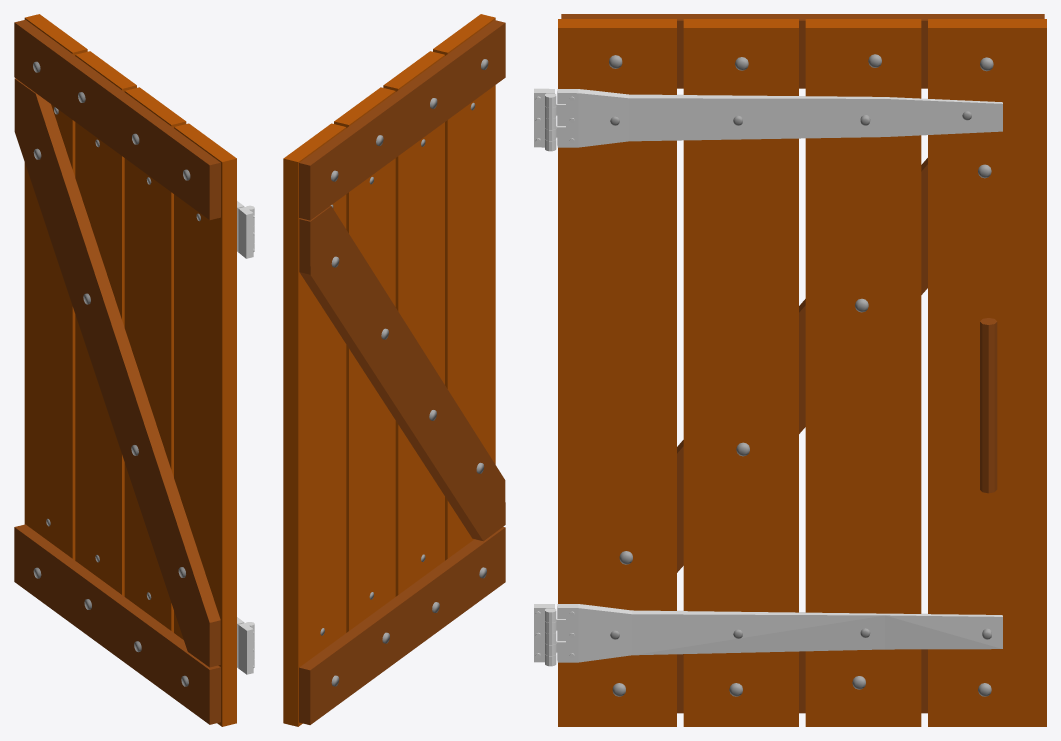
Rendered from Door.fbx.
The picture shows the model from 3 angles, left to right: view 1: azimuth 30°, elevation 25°; view 2: azimuth 150°, elevation 25°; view 3: azimuth 270°, elevation 25°; orthographic projection. The views are drawn at different scales.
Visible parts, largest first — view 1: Door, DoorHinge.004; view 2: Door; view 3: Door, DoorHinge.004.
Boxes of the visible parts, left/top/right/bottom form: Door: left=14, top=14, right=254, bottom=726; DoorHinge.004: left=238, top=205, right=254, bottom=674; Door: left=283, top=14, right=505, bottom=726; Door: left=545, top=14, right=1046, bottom=726; DoorHinge.004: left=534, top=88, right=556, bottom=666.
Size of the model in its own units: 68.01 by 725 by 482.
